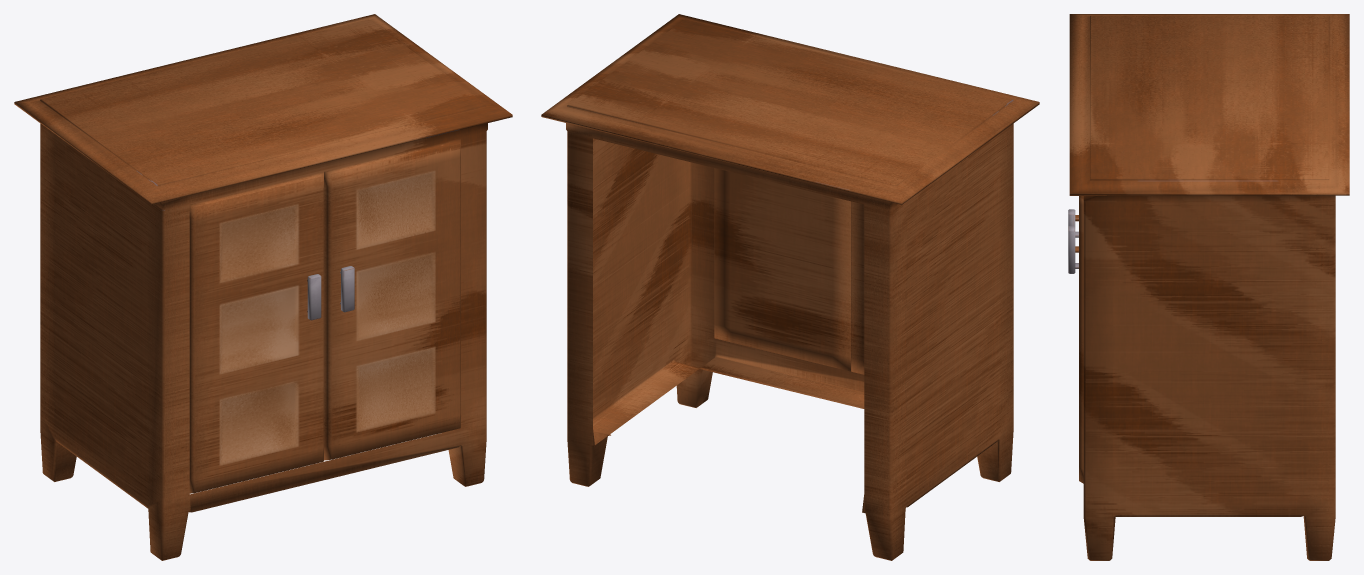
The model's file is cabinet.fbx.
The picture shows the model from 3 angles, left to right: view 1: azimuth 30°, elevation 25°; view 2: azimuth 150°, elevation 25°; view 3: azimuth 270°, elevation 25°; orthographic projection.
Visible parts, largest first — view 1: cabinet_BAKED; view 2: cabinet_BAKED; view 3: cabinet_BAKED.
Part boxes in pixels (x1=…): cabinet_BAKED: x1=14, y1=14, x2=512, y2=560; cabinet_BAKED: x1=541, y1=14, x2=1039, y2=560; cabinet_BAKED: x1=1068, y1=14, x2=1349, y2=560.
Bounding box in the file's own units: 84.8 × 84.81 × 56.29.
